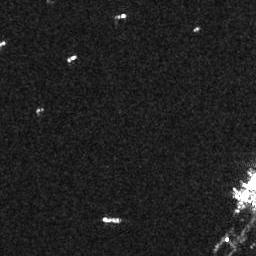ship: (102, 216, 122, 225), (116, 12, 127, 20), (67, 54, 77, 62)
